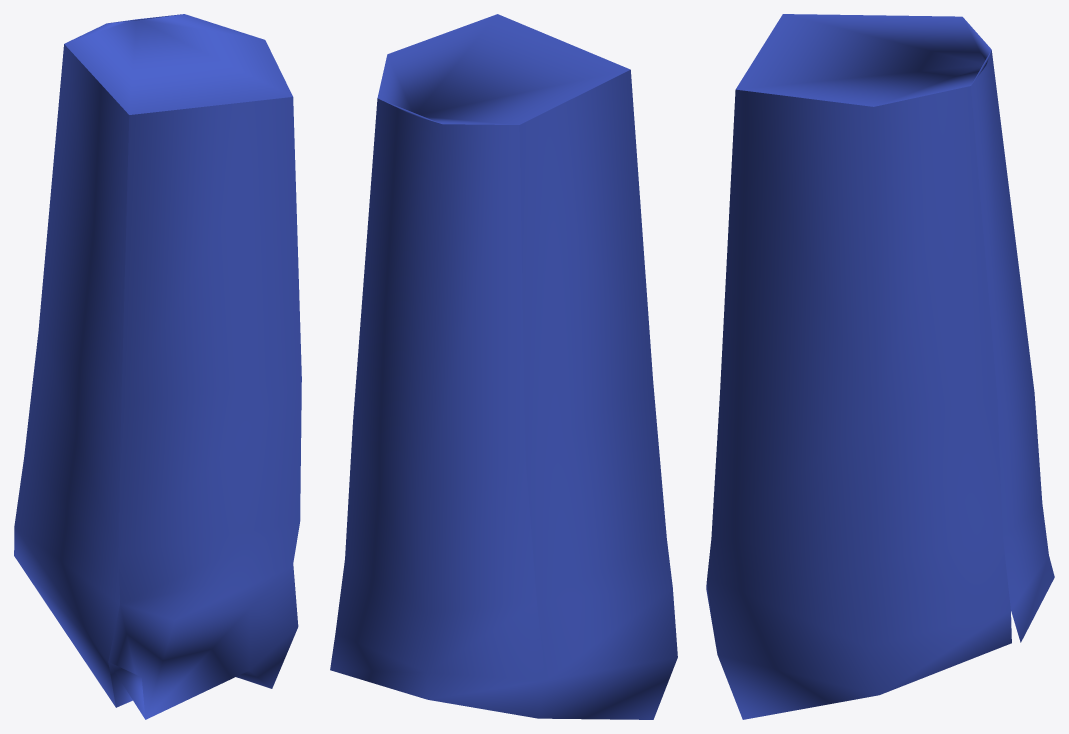
File: left_forearm.glb
The picture shows the model from 3 angles, left to right: view 1: azimuth 30°, elevation 25°; view 2: azimuth 150°, elevation 25°; view 3: azimuth 270°, elevation 25°; orthographic projection. The views are drawn at different scales.
Visible parts, largest first — view 1: sweater-blue_LEFT_FOREARM; view 2: sweater-blue_LEFT_FOREARM; view 3: sweater-blue_LEFT_FOREARM.
Part boxes in pixels (x1=…): sweater-blue_LEFT_FOREARM: x1=14, y1=14, x2=301, y2=719; sweater-blue_LEFT_FOREARM: x1=330, y1=14, x2=677, y2=719; sweater-blue_LEFT_FOREARM: x1=706, y1=14, x2=1054, y2=719.
Bounding box in the file's own units: 0.1163 × 0.2889 × 0.1398.
Materials: 1 (1 with a texture image).
